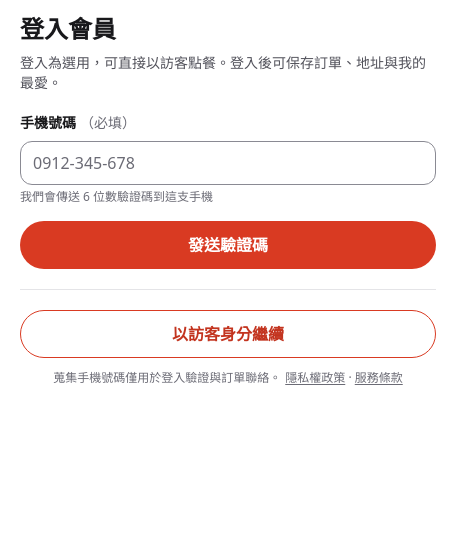
Test: LoginPage › 發送被限流（OTP_RATE_LIMITED）：顯示說明，並可直接輸入已收到的驗證碼
This screenshot has width=457, height=536.
Type "0912345678" into the field labelled "手機號碼（必填）" at (228, 163), box [20,141,436,185]
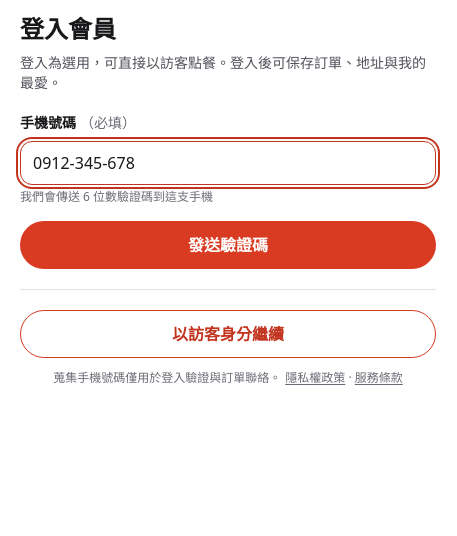
Click the button "發送驗證碼" at (228, 245), box [20,221,436,269]
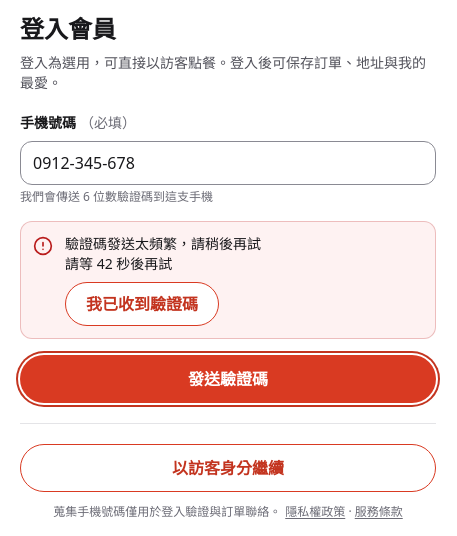
expect the text "驗證碼發送太頻繁，請稍後再試" is shown: met, box [65,234,261,253]
expect the text "請等 42 秒後再試" is shown: met, box [65,254,172,273]
Click the button "我已收到驗證碼" at (142, 304), box [65,282,219,326]
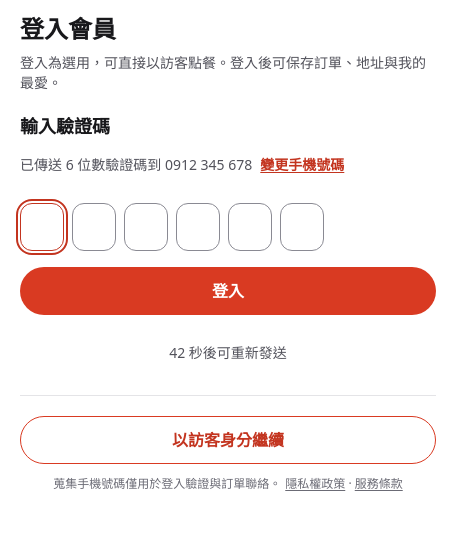
expect the element named "驗證碼" is shown: met, box [20,203,324,251]
